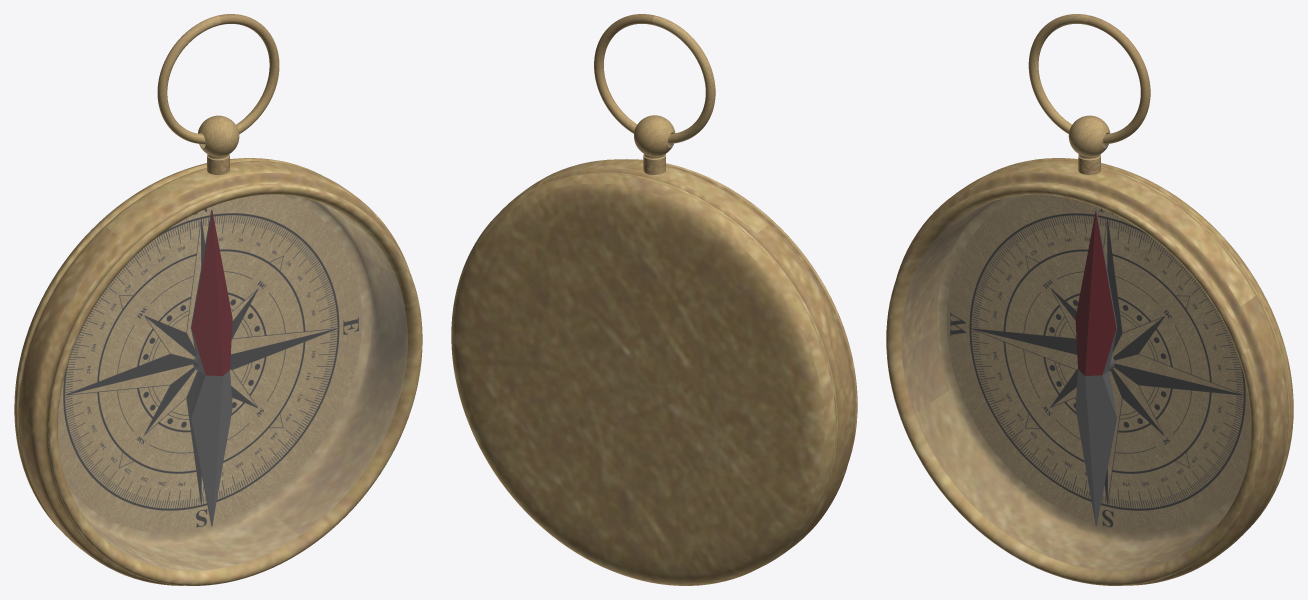
File: mastertux-compass-1679.glb
3 views of the same model, side by side, from view 1: azimuth 30°, elevation 25°; view 2: azimuth 150°, elevation 25°; view 3: azimuth 330°, elevation 25° (orthographic).
Visible parts, largest first — view 1: Glas, Rose, Kompass, Nadel, Ring, Kugel; view 2: Kompass, Ring, Kugel; view 3: Glas, Rose, Kompass, Nadel, Ring, Kugel.
Part boxes in pixels (x1,y1,x2,y2): Glas: [58, 133, 407, 570]; Rose: [58, 194, 361, 532]; Kompass: [14, 158, 422, 585]; Nadel: [190, 209, 232, 526]; Ring: [157, 14, 279, 144]; Kugel: [198, 115, 239, 174]; Kompass: [451, 159, 857, 585]; Ring: [594, 14, 715, 143]; Kugel: [634, 115, 675, 174]; Glas: [901, 133, 1250, 570]; Rose: [946, 194, 1250, 532]; Kompass: [886, 158, 1293, 585]; Nadel: [1075, 209, 1117, 526]; Ring: [1028, 14, 1150, 144]; Kugel: [1068, 115, 1110, 174].
Size of the model in its own units: 0.3974 by 0.5484 by 0.0688.
Materials: 5 (2 with a texture image).
